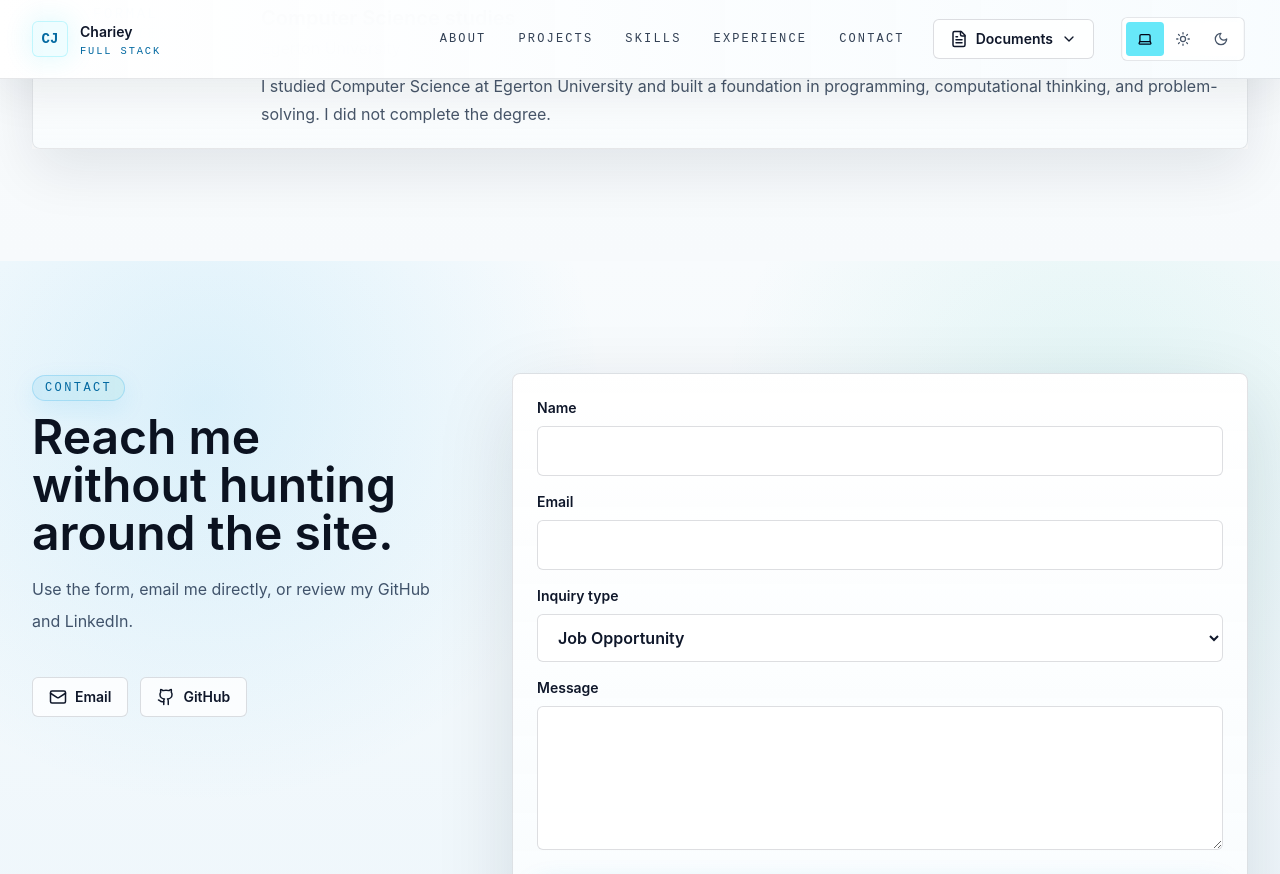
it: portfolio app › shows success feedback after a valid contact submission
The image size is (1280, 874).
(page scrolled)
In the field labelled "Name": (880, 450) top-left (537, 426), bottom-right (1223, 476), type "Recruiter"
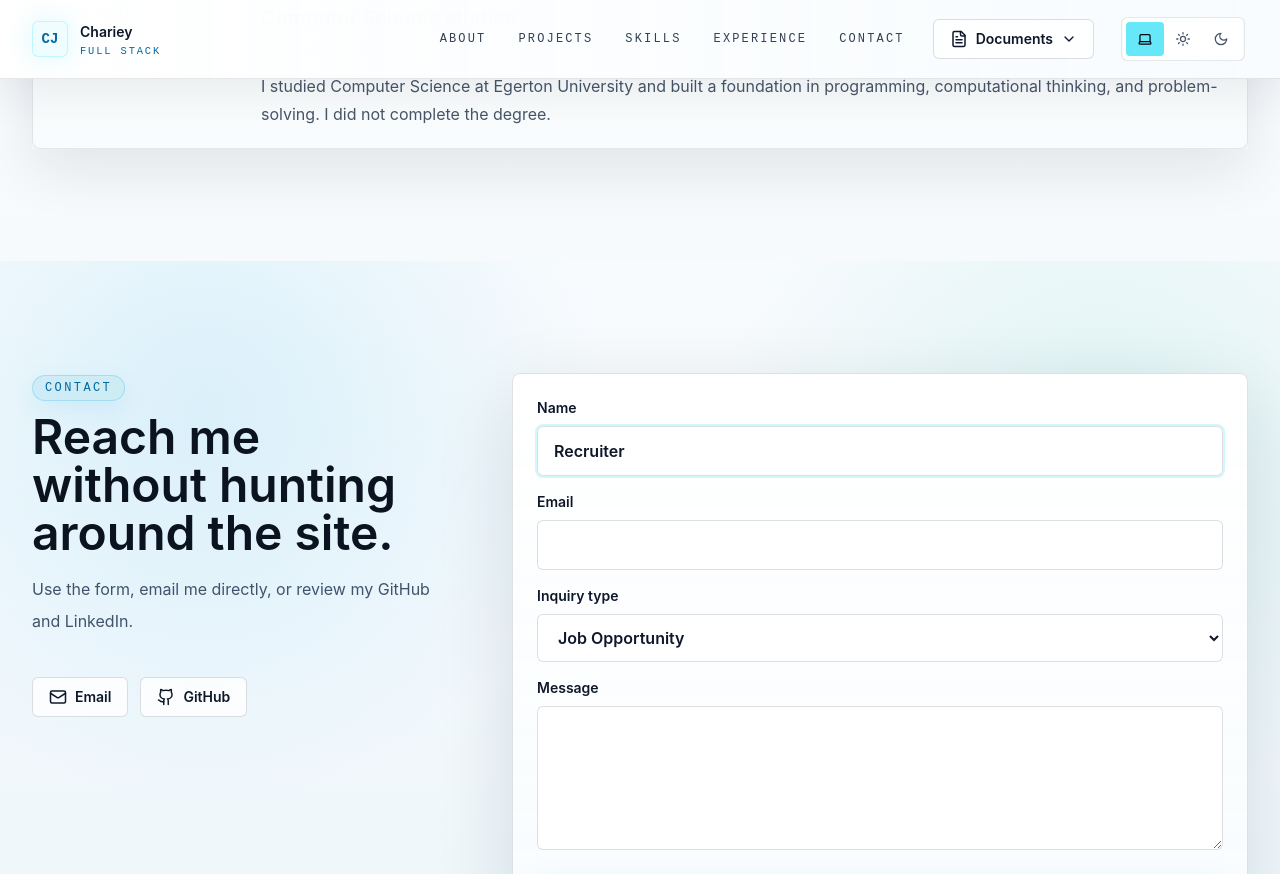
In the field labelled "Email": (880, 544) top-left (537, 520), bottom-right (1223, 570), type "recruiter@example.com"
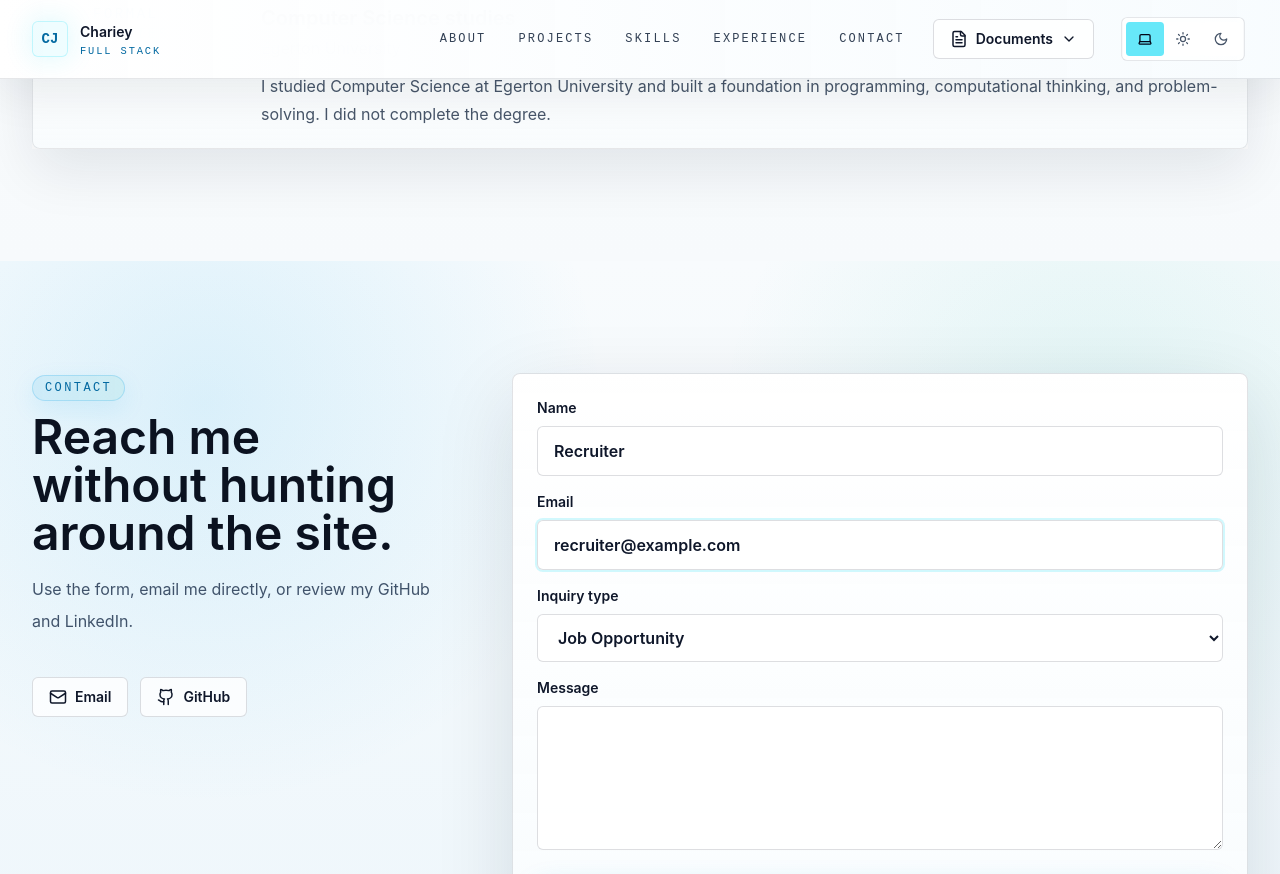
In the text box labelled "Message": (880, 778) top-left (537, 706), bottom-right (1223, 850), type "I would like to discuss a role with you."
(page scrolled)
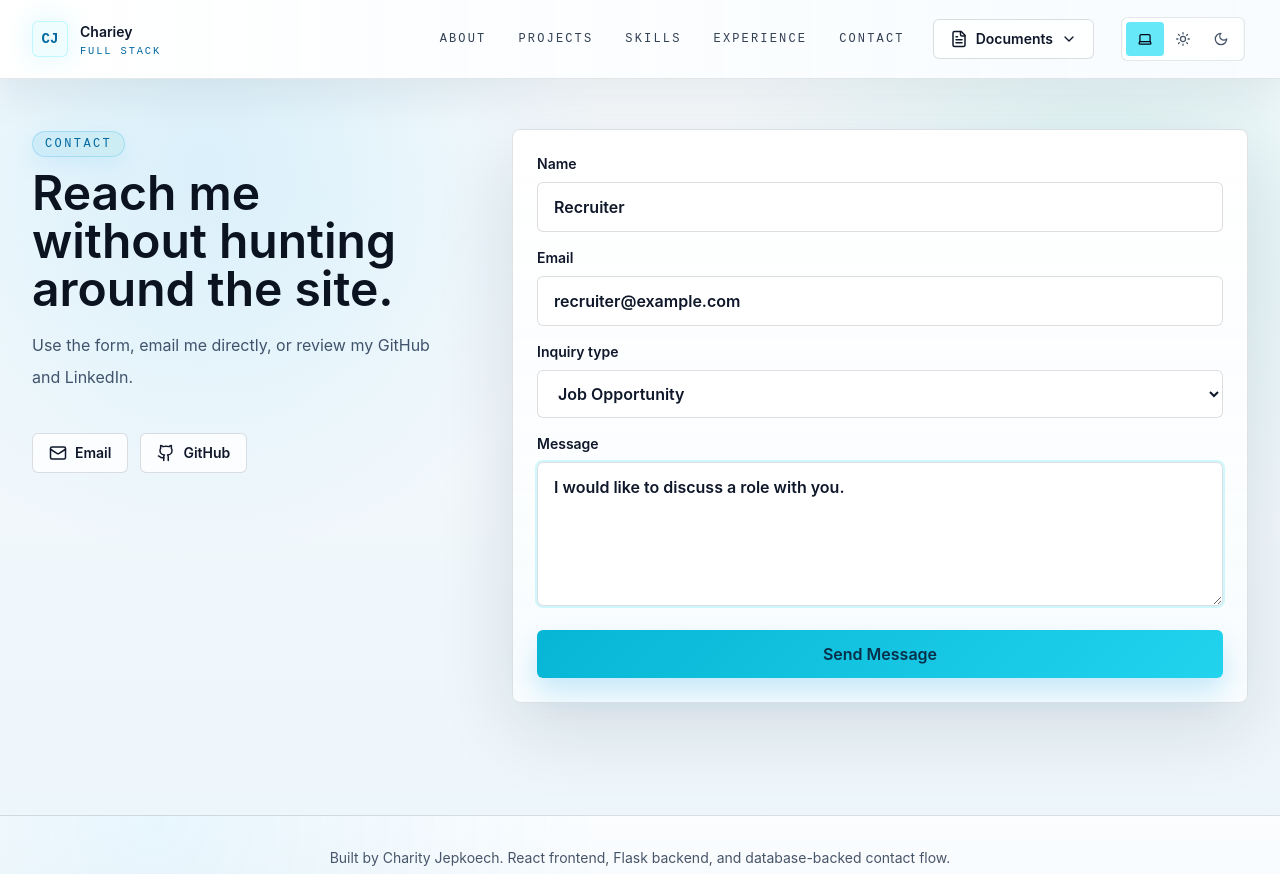
Click the button "Send Message": (880, 654) top-left (537, 630), bottom-right (1223, 678)
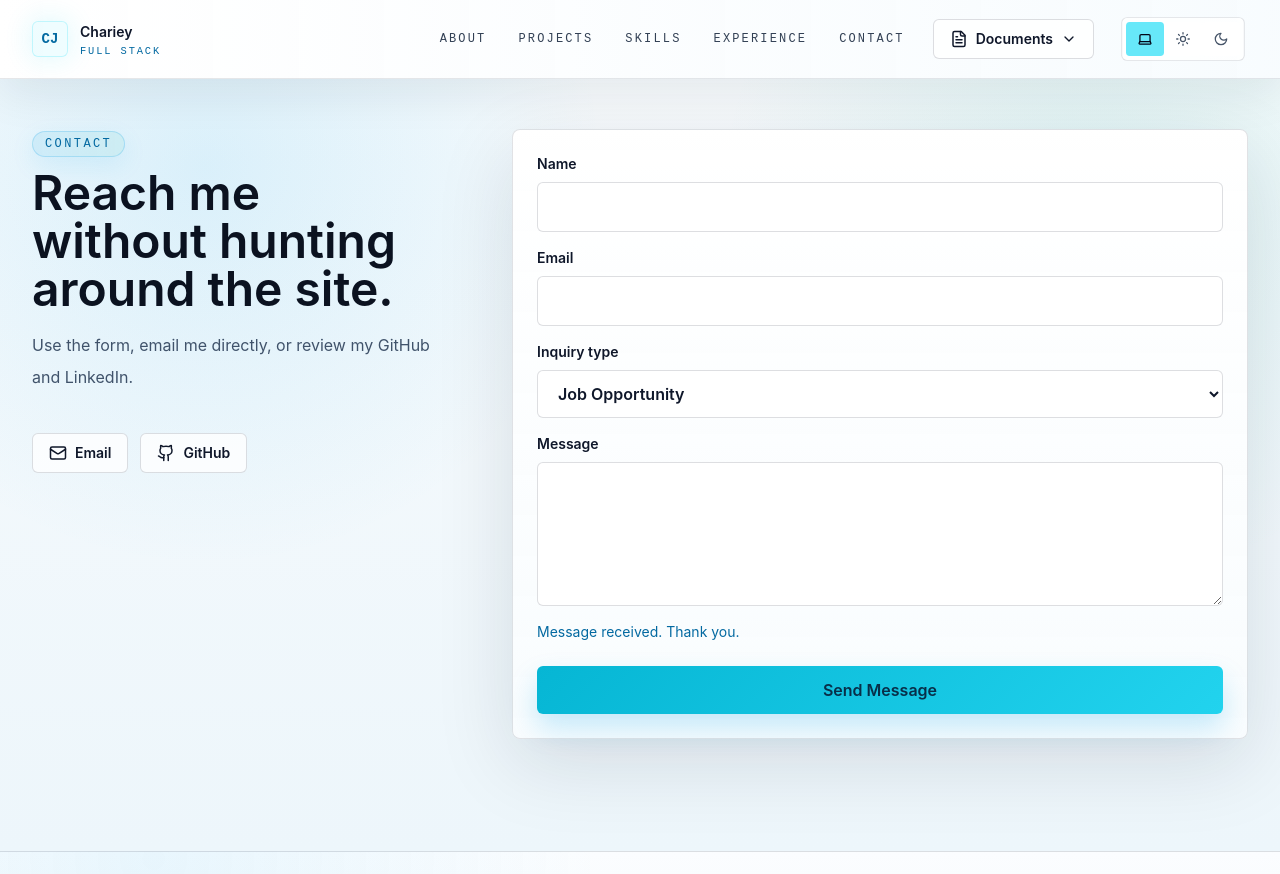
Expected: the text "Message received. Thank you." is shown, top-left (537, 622), bottom-right (740, 640)
